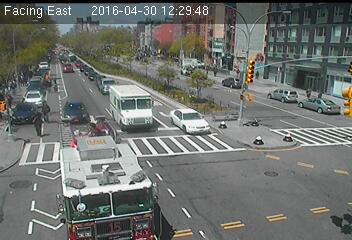neg: (83, 159, 116, 203), (285, 21, 311, 56), (238, 53, 262, 84), (205, 33, 226, 61), (210, 113, 229, 139), (325, 205, 344, 231), (105, 31, 124, 55), (288, 68, 305, 90), (249, 133, 262, 151), (152, 27, 165, 43), (282, 127, 292, 142), (64, 61, 73, 72)
pos: (30, 111, 50, 137)
